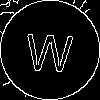W: (25, 25, 74, 73)
